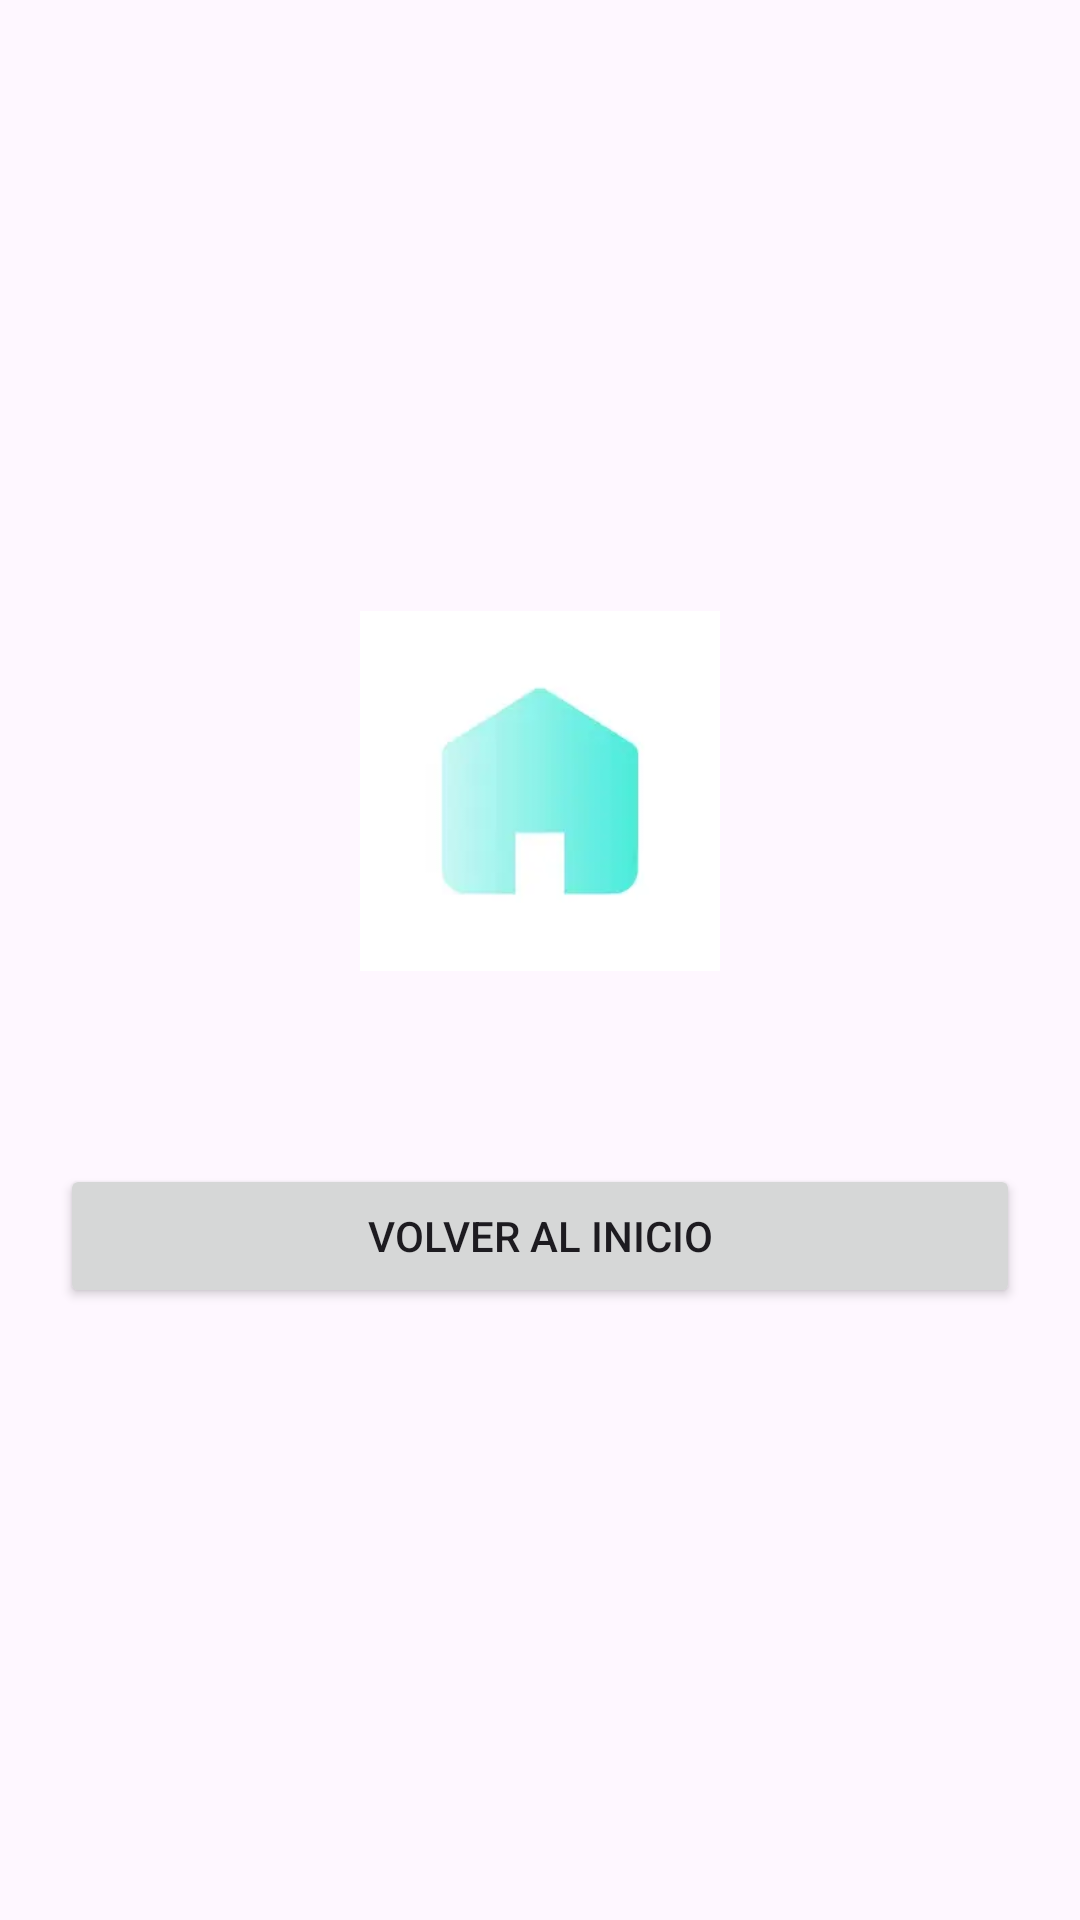

Named icons in this screenshot (1080×1920) and their centers, (x=x, y=y):
Inicio: (x=540, y=791)
